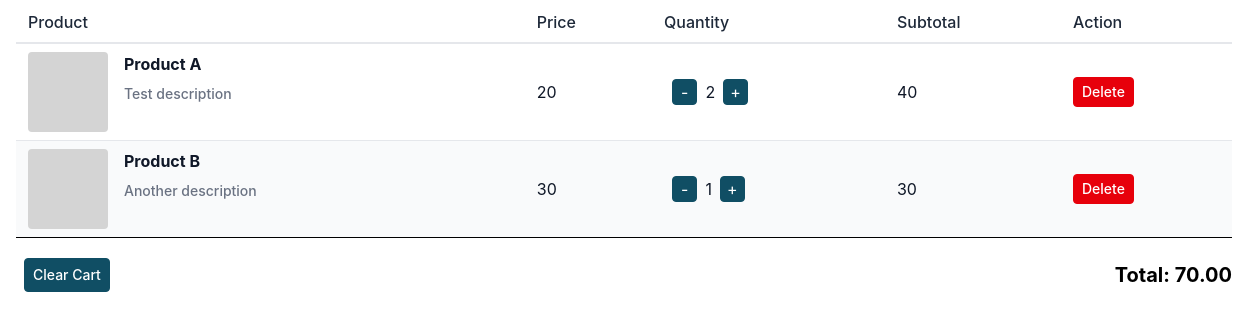
Scenario: Cart component › should remove product from cart
The width and height of the screenshot is (1249, 309).
Click the button "Delete" in the row of "Test description": (1103, 92) [1073,77,1134,107]
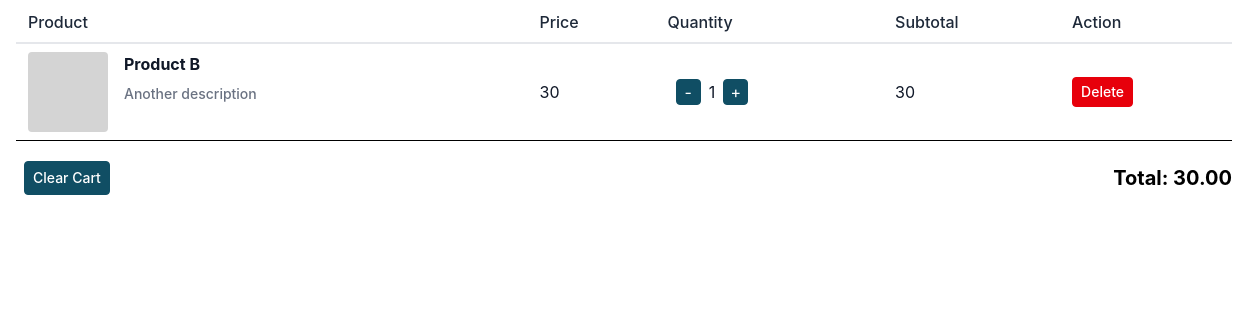
Expected: the heading "Product B" is shown, [124,54,200,74]
Now the heading "Product A" is gone
Now the heading "Total: 30.00" is shown, box [1113,164,1232,192]
